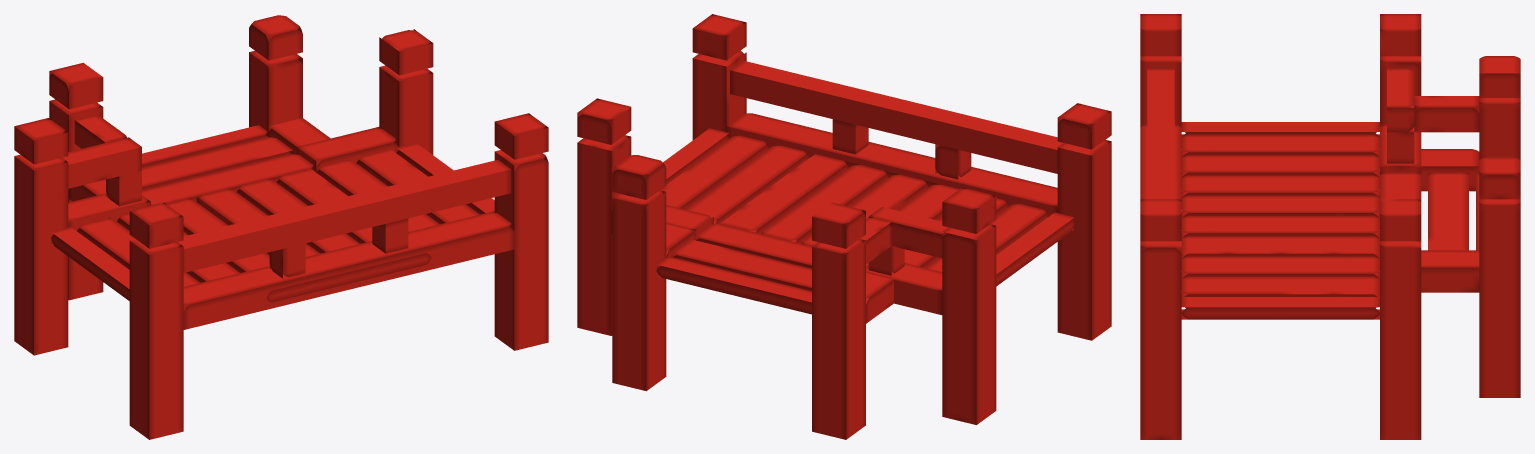
File: bridge_u_6.obj
The picture shows the model from 3 angles, left to right: view 1: azimuth 30°, elevation 25°; view 2: azimuth 150°, elevation 25°; view 3: azimuth 270°, elevation 25°; orthographic projection. The views are drawn at different scales.
Parts seen in each view (by area): view 1: cube; view 2: cube; view 3: cube.
Boxes of the visible parts, box(x1,y1,x2,y2) form: cube: box(14, 15, 548, 439); cube: box(577, 14, 1111, 439); cube: box(1140, 14, 1520, 439).
Size of the model in its own units: 1.09 by 0.5625 by 0.8672.
Materials: 1 (1 with a texture image).
